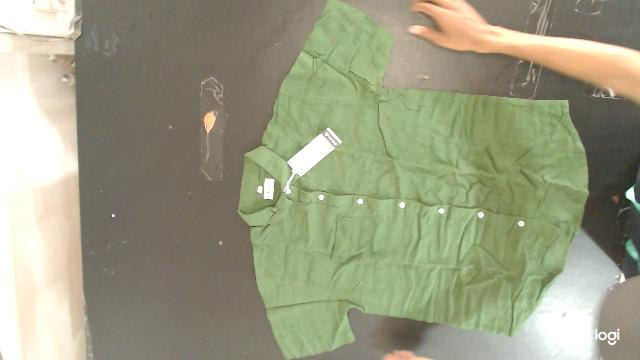new-garment: (238, 0, 588, 358)
